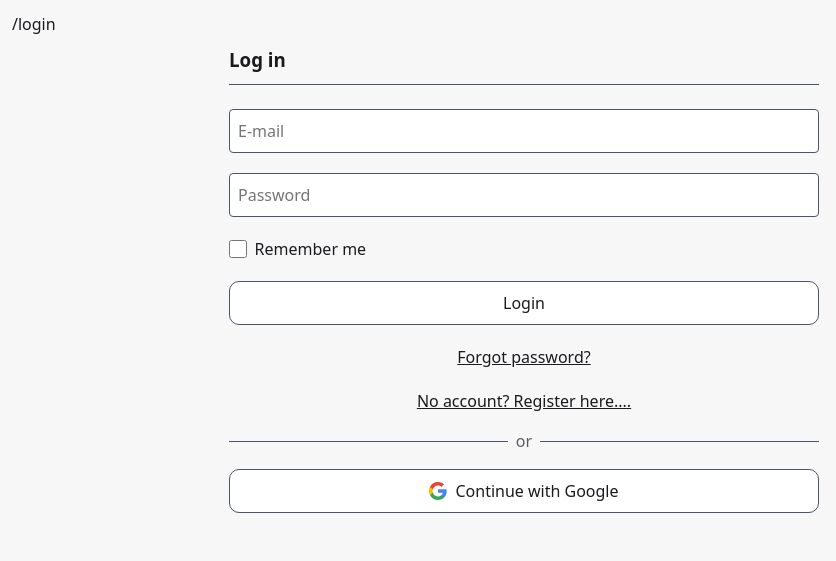
it: LoginPage › merges server 422 field errors into the form
The width and height of the screenshot is (836, 561).
Step 1. Type "ada@example.com" into the field labelled "E-mail" → {"x": 524, "y": 131}, box [229,109,819,153]
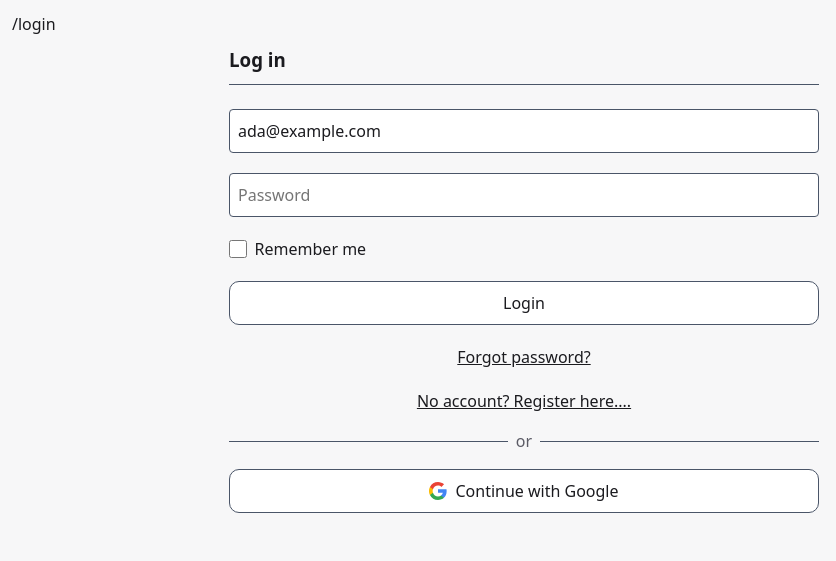
Step 2. Type "Password1" into the password field labelled "Password" → {"x": 524, "y": 195}, box [229,173,819,217]
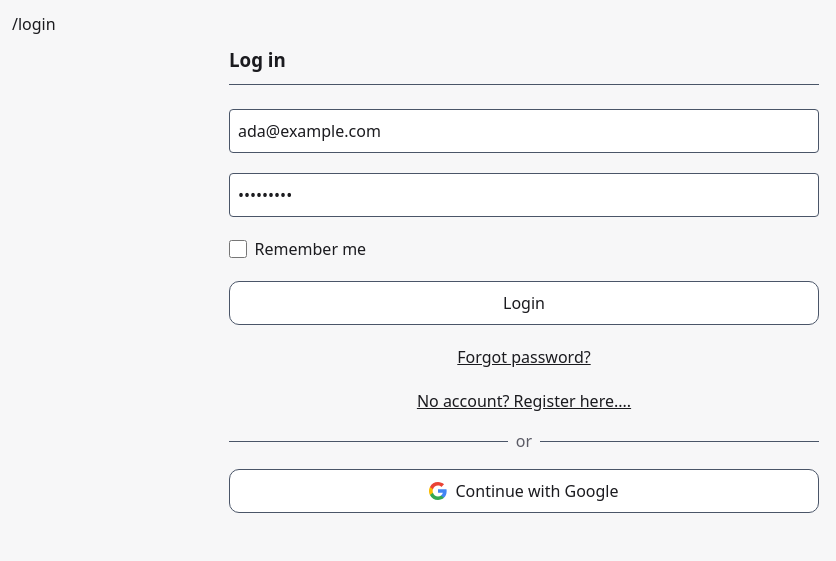
Step 3. Click the button "Login" → {"x": 524, "y": 303}, box [229,281,819,325]
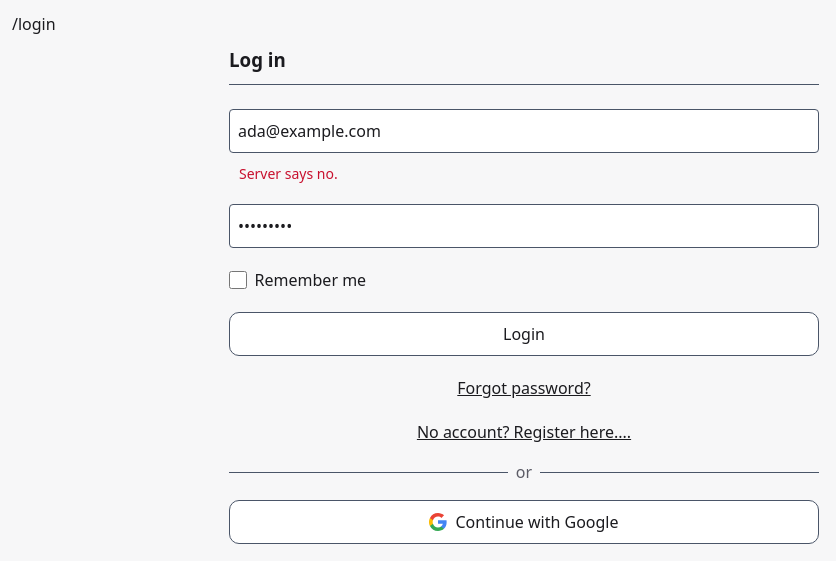
Now the text "Server says no." is shown, box [239,164,338,183]
